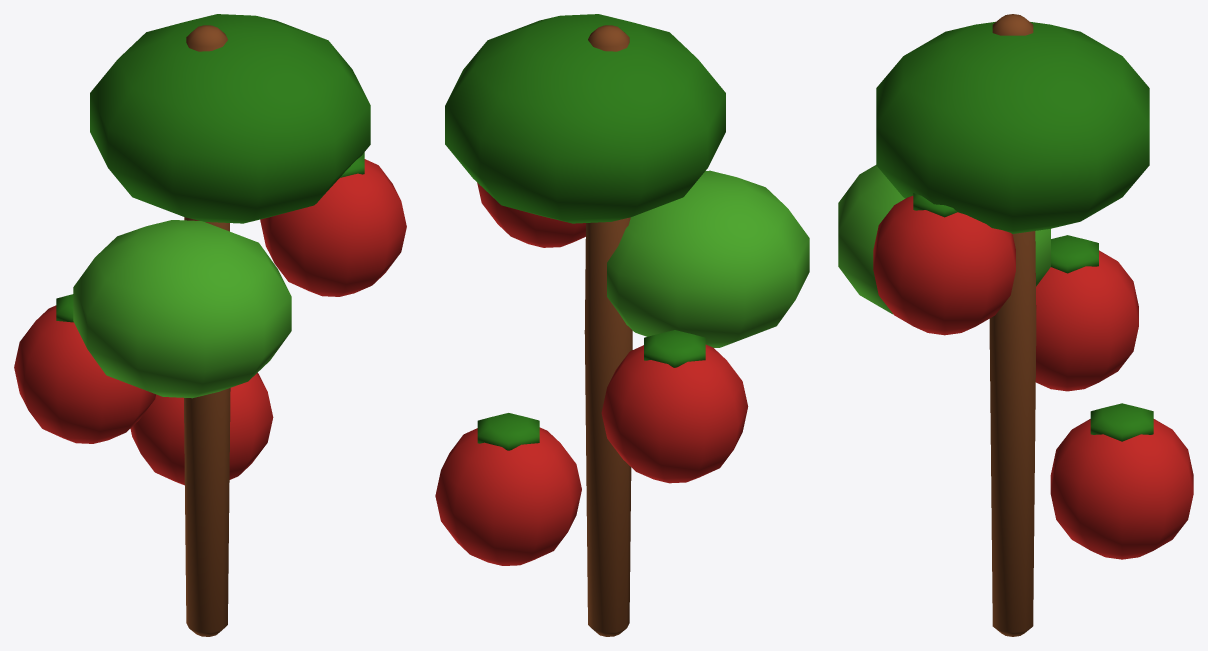
The model's file is pflanze_tomate.glb.
3 renders of one model, left to right at view 1: azimuth 30°, elevation 25°; view 2: azimuth 150°, elevation 25°; view 3: azimuth 270°, elevation 25°, orthographic.
Visible parts, largest first — view 1: PflanzeTomate; view 2: PflanzeTomate; view 3: PflanzeTomate.
Boxes of the visible parts, x1,y1,x2,y2 form: PflanzeTomate: (14,14,406,636); PflanzeTomate: (435,14,809,636); PflanzeTomate: (838,14,1193,636).
Bounding box in the file's own units: 0.27 × 0.5 × 0.2602.
1 material, 1 textured.
